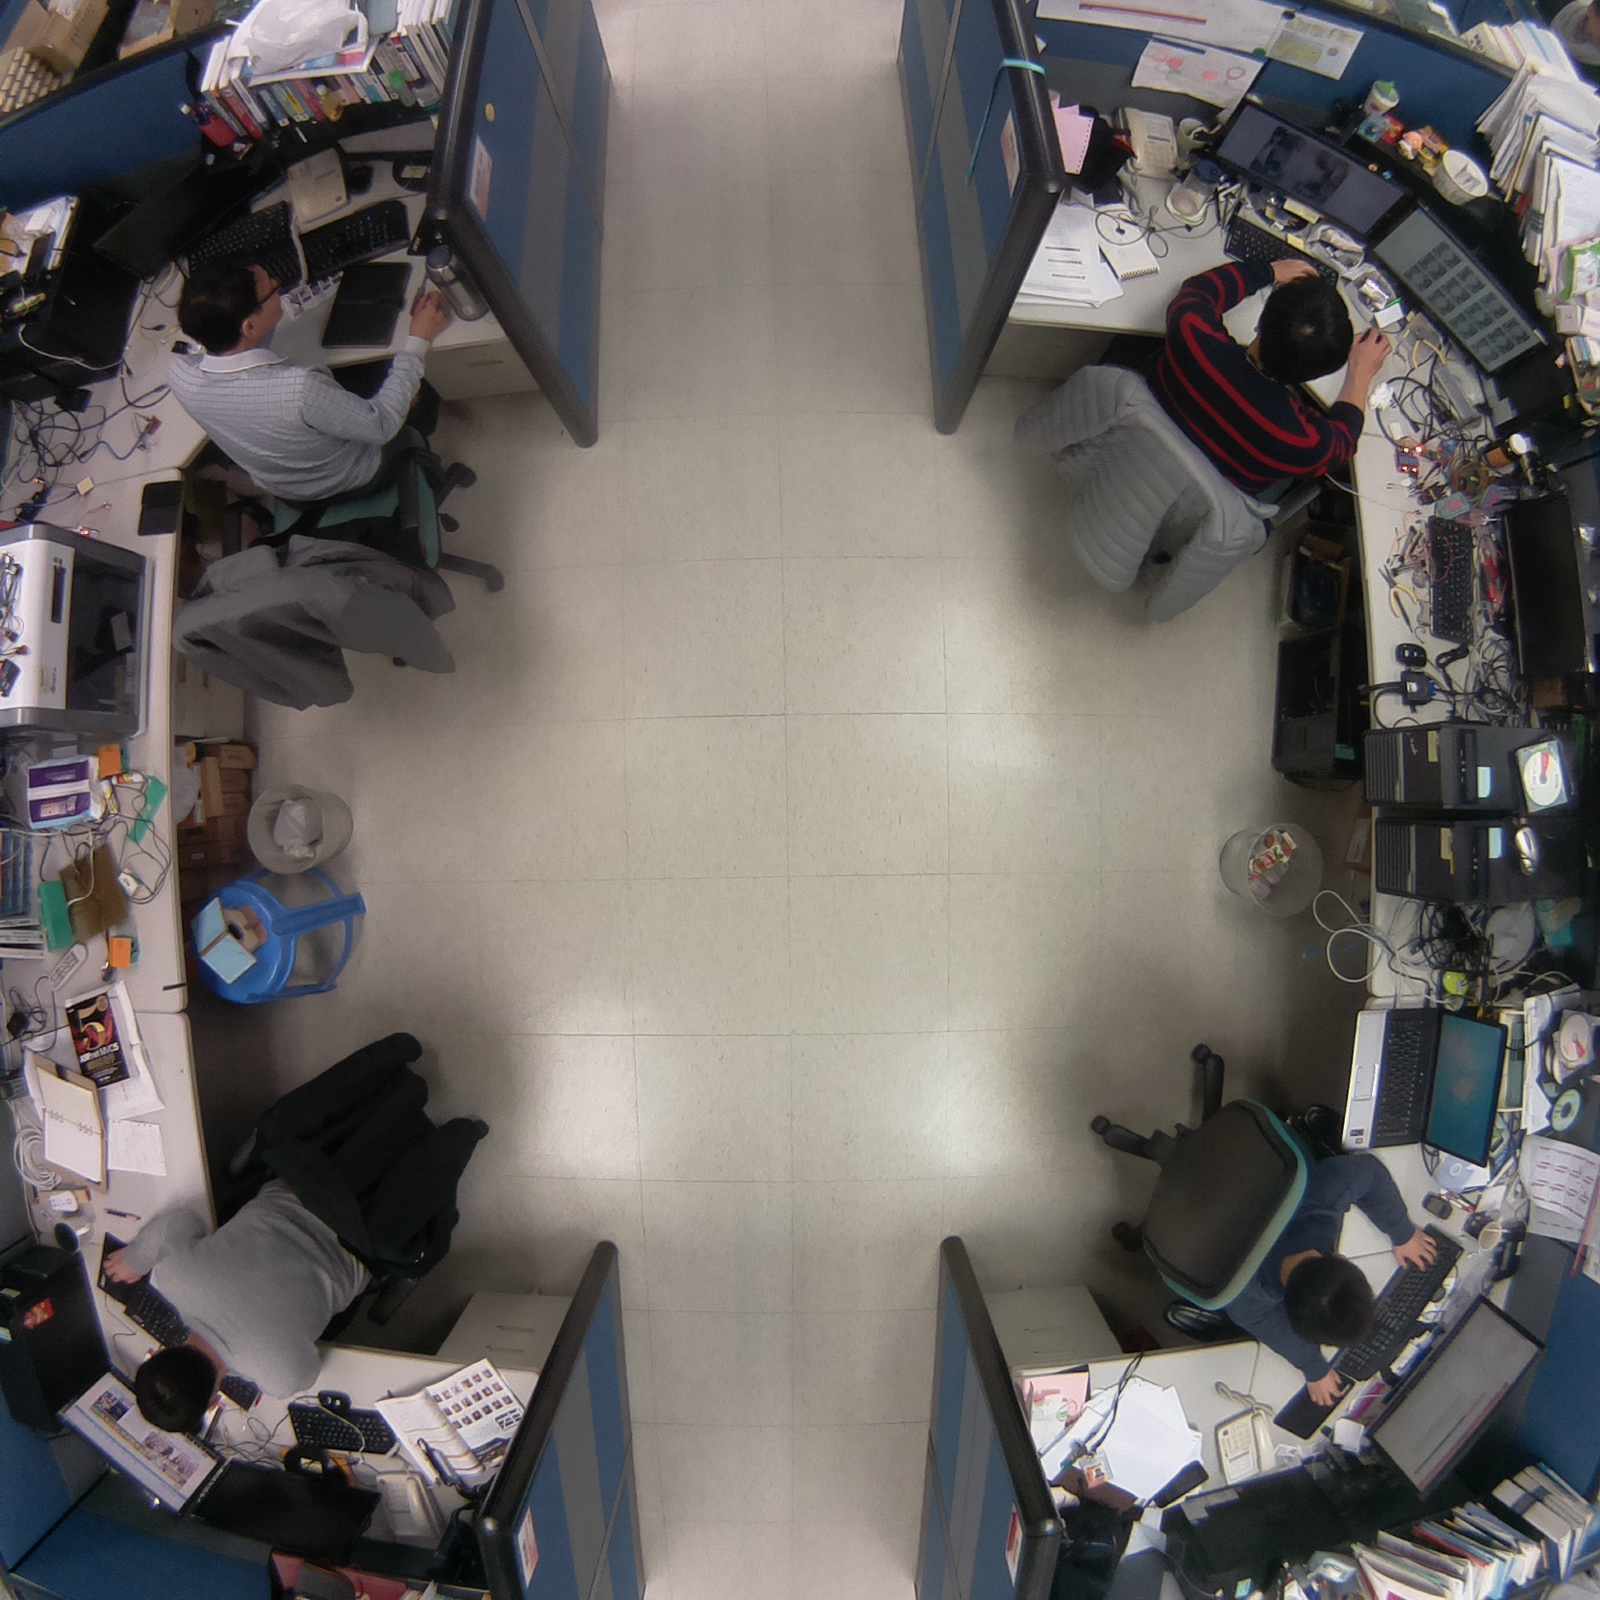head: (172, 242, 295, 353), (1249, 270, 1355, 391), (1272, 1248, 1387, 1351), (123, 1338, 225, 1438)
sitting: (158, 217, 532, 729), (91, 996, 512, 1445), (1001, 250, 1399, 637), (1065, 1034, 1458, 1424)
